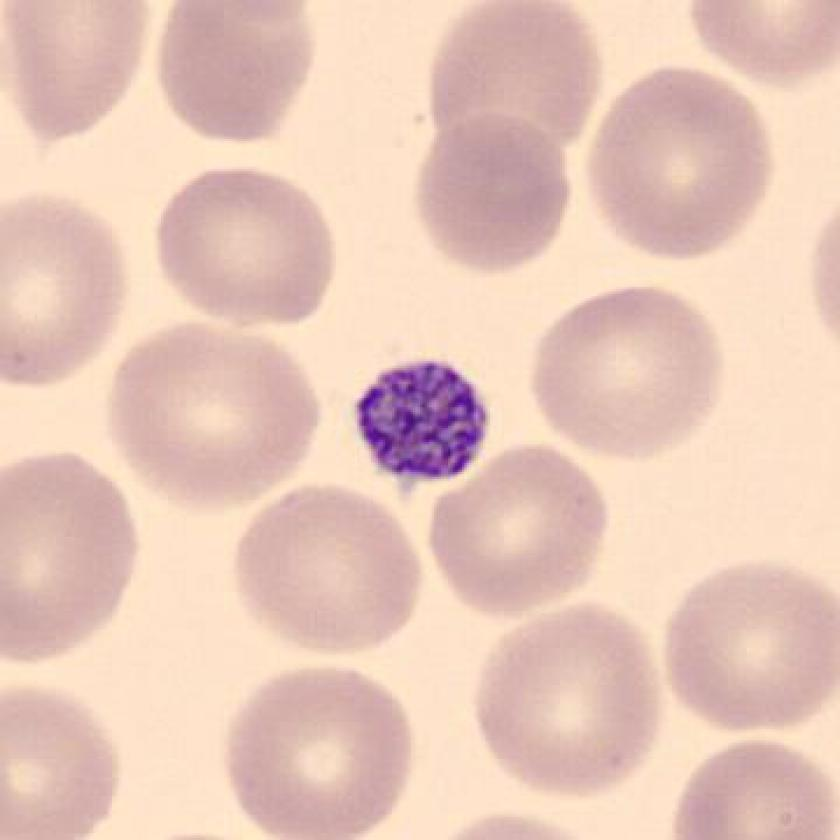platelets: (346, 346, 498, 501)
